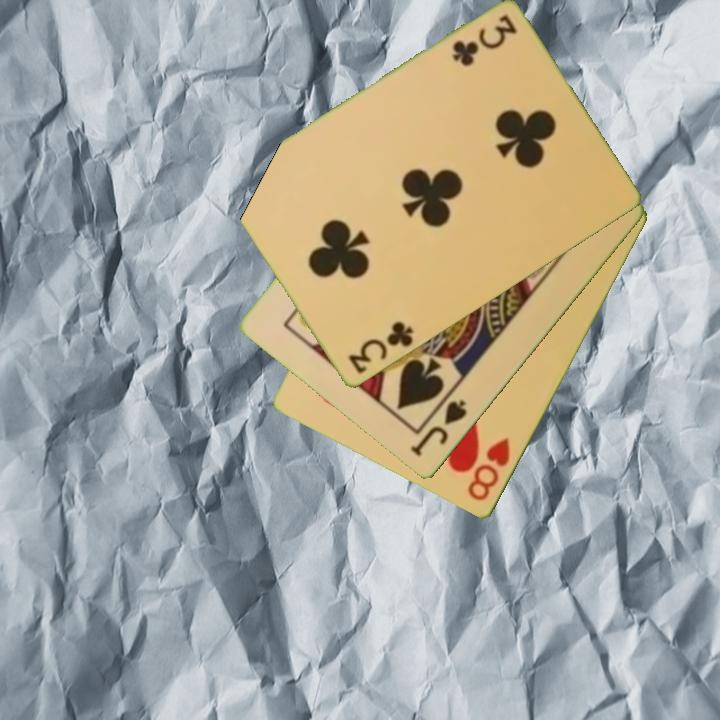3c: (344, 318, 417, 377), (448, 11, 520, 69)
8h: (464, 434, 513, 505)
Js: (406, 396, 470, 460)
